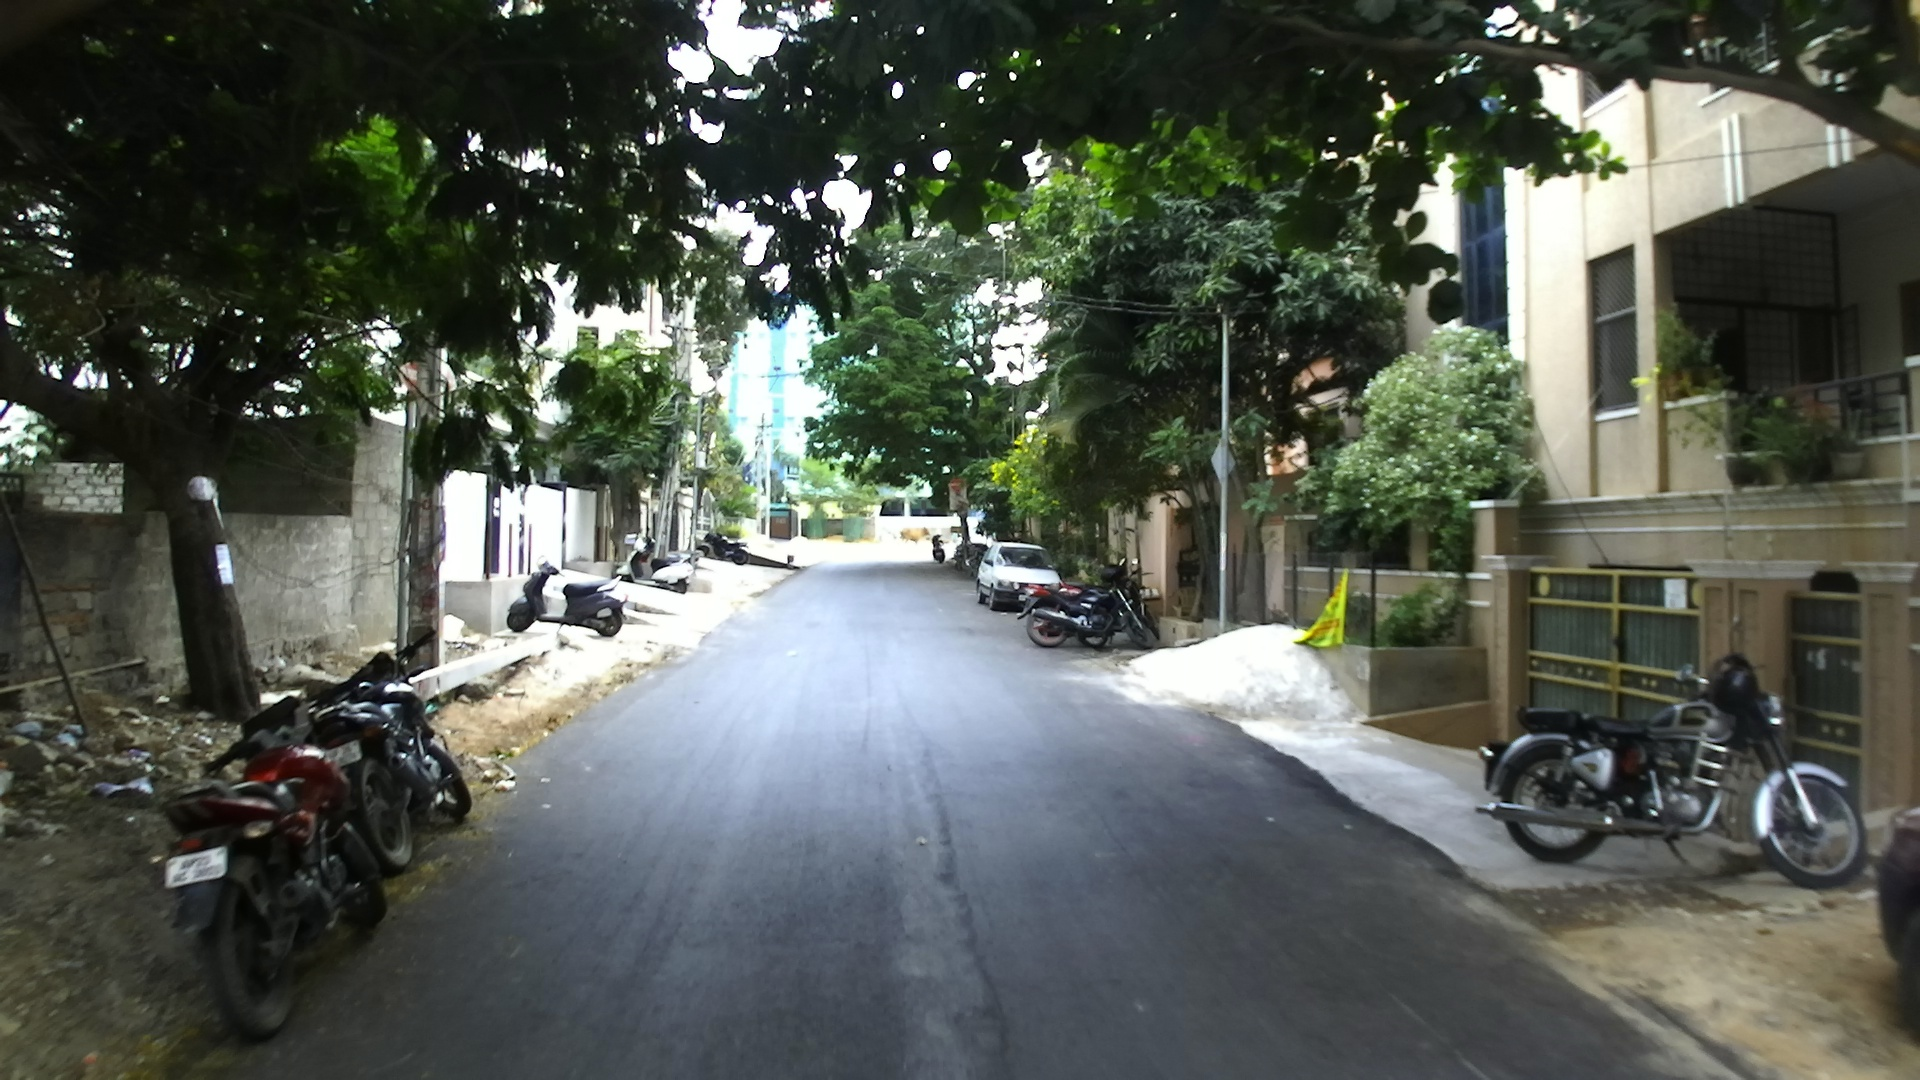vehicle: (1476, 647, 1865, 886), (149, 699, 393, 1042), (287, 633, 473, 858), (505, 564, 629, 641), (1023, 583, 1156, 651), (975, 541, 1062, 611), (915, 513, 967, 564)
